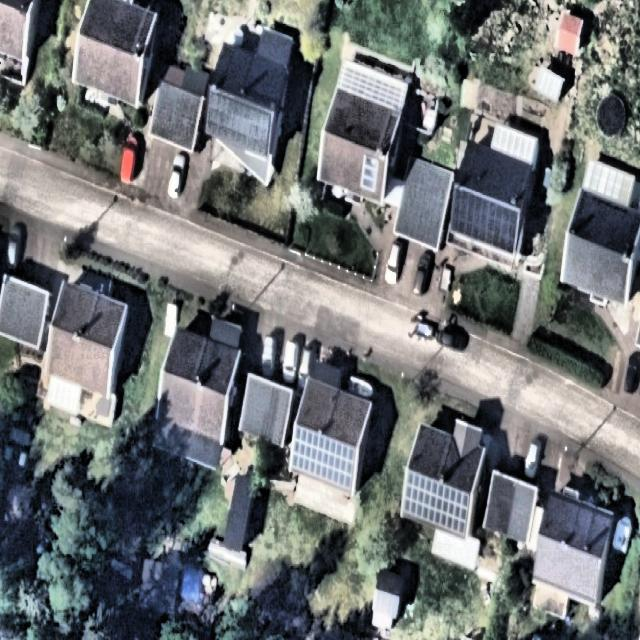roof_pv: (204, 89, 272, 159), (451, 186, 518, 253), (289, 427, 357, 489), (404, 472, 469, 534)
